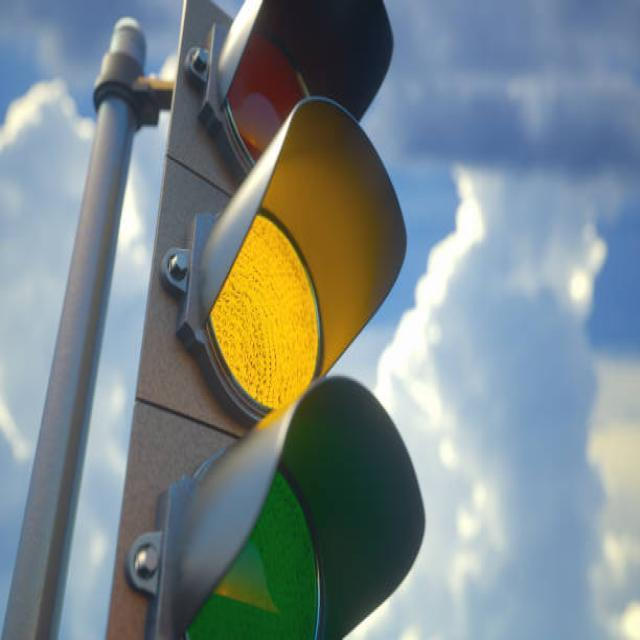yellow_light: (142, 0, 423, 637)
